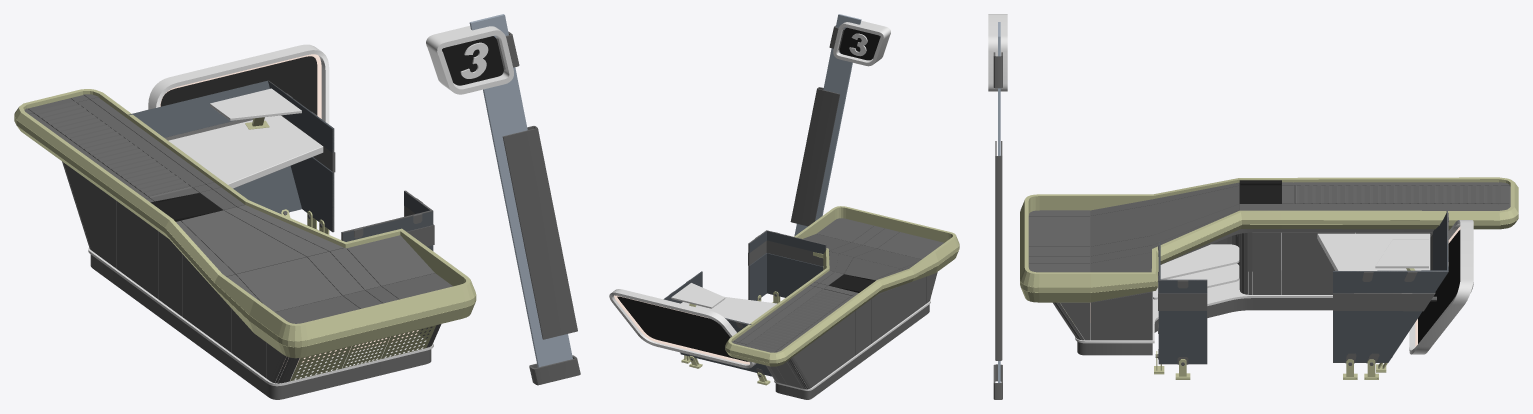
File: CheckoutCounter.FBX
The picture shows the model from 3 angles, left to right: view 1: azimuth 30°, elevation 25°; view 2: azimuth 150°, elevation 25°; view 3: azimuth 270°, elevation 25°; orthographic projection. The views are drawn at different scales.
Visible parts, largest first — view 1: hyper sandogh roo 03, hyper sandogh 04, hyper sandogh 03, hyper sandogh 07, hyper stand k 01, hyper sandogh miz 01, hyper stand 01, hyper sandogh jel 08, hyper sandogh jel 07, hyper sandogh tori 07, hyper stand bala 01, hyper sandogh ppp 03 (+8 smaller); view 2: hyper sandogh roo 03, hyper sandogh 03, hyper sandogh 04, hyper sandogh 07, hyper stand k 01, hyper sandogh jel 08, hyper stand 01, hyper sandogh jel 07, hyper sandogh miz 01, hyper stand bala 01, hyper sandogh k 01, hyper stand num 01 (+4 smaller); view 3: hyper sandogh roo 03, hyper sandogh 04, hyper sandogh 03, hyper sandogh 07, hyper sandogh k 01, hyper sandogh miz 01, hyper sandogh tabaghe 03, hyper sandogh jel 07, hyper stand k 01, hyper sandogh jel 08, hyper sandogh ppp 03, hyper sandogh miz 02 (+4 smaller).
Boxes of the visible parts, box(x1,y1,x2,y2) form: hyper sandogh roo 03: box(24, 94, 452, 323); hyper sandogh 04: box(14, 89, 476, 358); hyper sandogh 03: box(62, 161, 441, 399); hyper sandogh 07: box(129, 80, 433, 250); hyper stand k 01: box(502, 126, 577, 339); hyper sandogh miz 01: box(168, 115, 323, 188); hyper stand 01: box(469, 14, 572, 367); hyper sandogh jel 08: box(160, 56, 317, 114); hyper sandogh jel 07: box(148, 44, 329, 124); hyper sandogh tori 07: box(290, 325, 436, 381); hyper stand bala 01: box(426, 26, 513, 94); hyper sandogh ppp 03: box(88, 247, 433, 386); hyper sandogh roo 03: box(732, 218, 944, 352); hyper sandogh 03: box(766, 272, 937, 399); hyper sandogh 04: box(725, 206, 959, 366); hyper sandogh 07: box(663, 231, 825, 376); hyper stand k 01: box(790, 87, 840, 226); hyper sandogh jel 08: box(617, 296, 748, 361); hyper stand 01: box(794, 14, 861, 236); hyper sandogh jel 07: box(609, 289, 756, 368); hyper sandogh miz 01: box(681, 296, 777, 323); hyper stand bala 01: box(833, 20, 890, 66); hyper sandogh k 01: box(680, 240, 823, 303); hyper stand num 01: box(839, 27, 880, 60); hyper sandogh roo 03: box(1029, 182, 1510, 272); hyper sandogh 04: box(1020, 177, 1518, 302); hyper sandogh 03: box(1053, 229, 1449, 355); hyper sandogh 07: box(1158, 211, 1448, 363); hyper sandogh k 01: box(1158, 234, 1435, 311); hyper sandogh miz 01: box(1317, 233, 1430, 270); hyper sandogh tabaghe 03: box(1153, 244, 1239, 299); hyper sandogh jel 07: box(1409, 220, 1473, 354); hyper stand k 01: box(995, 141, 1002, 360); hyper sandogh jel 08: box(1418, 230, 1460, 343); hyper sandogh ppp 03: box(1075, 270, 1332, 343); hyper sandogh miz 02: box(1375, 239, 1428, 268).
Size of the model in its own units: 87.88 by 111 by 160.
